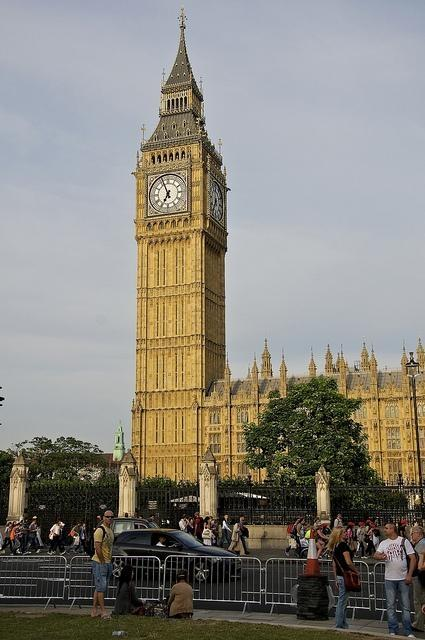car: (111, 529, 240, 584), (84, 517, 160, 558)
